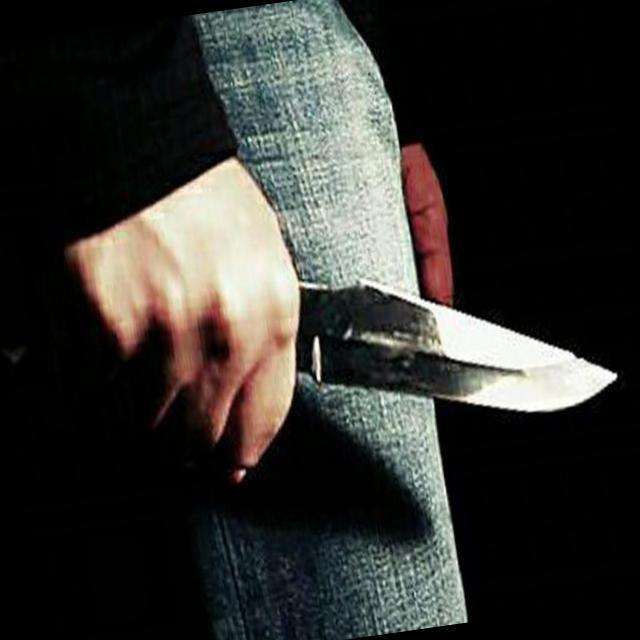Knife: (130, 223, 635, 498)
